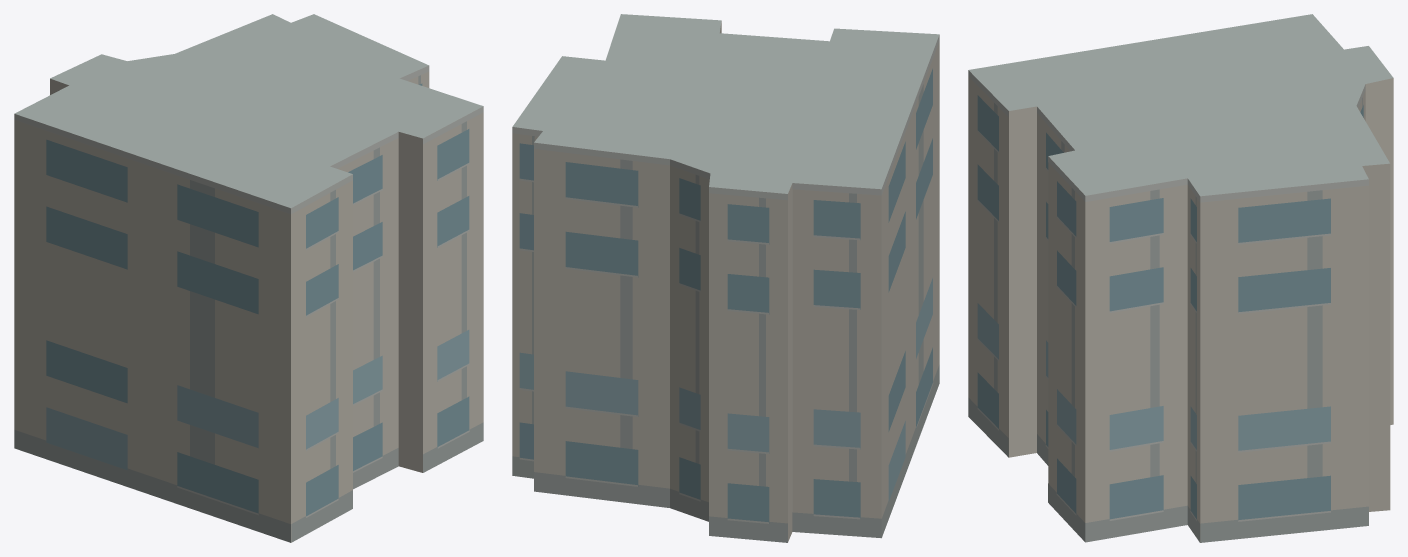
The model's file is survey-upis-32809137.glb.
3 renders of one model, left to right at view 1: azimuth 30°, elevation 25°; view 2: azimuth 150°, elevation 25°; view 3: azimuth 270°, elevation 25°, orthographic. The views are drawn at different scales.
Parts seen in each view (by area): view 1: survey-upis-32809137.tmp; view 2: survey-upis-32809137.tmp; view 3: survey-upis-32809137.tmp.
Boxes of the visible parts, x1,y1,x2,y2 form: survey-upis-32809137.tmp: [14, 14, 483, 542]; survey-upis-32809137.tmp: [512, 14, 939, 542]; survey-upis-32809137.tmp: [968, 14, 1393, 542].
Bounding box in the file's own units: 15.25 × 13.51 × 15.04.
